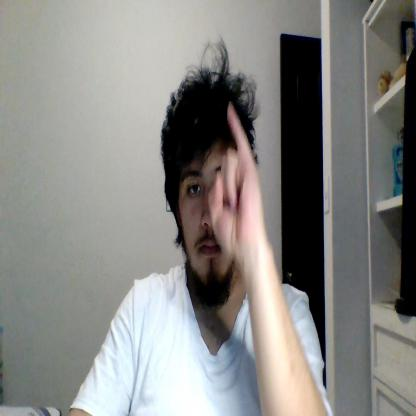I: (207, 104, 266, 262)
